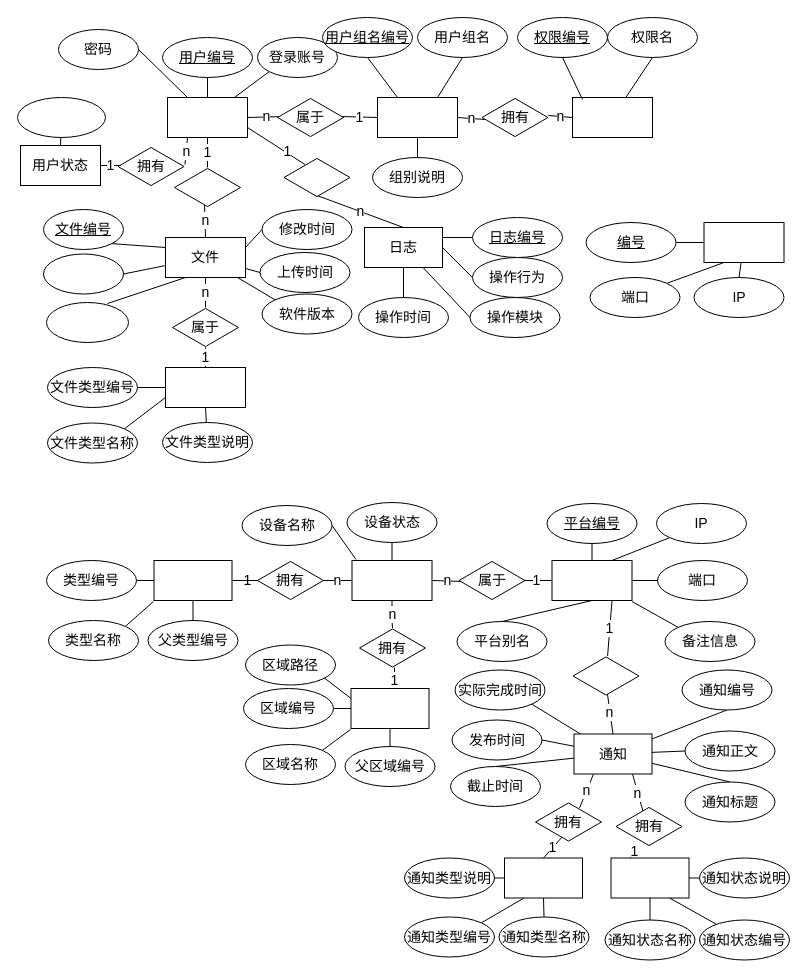
Some shapes in this 807 by 978 pixel diagram are drawn without their labels. Each missing label, with the centre of its shape:
一级平台: the point at 591,580
产生: the point at 316,177
区域: the point at 389,708
接收: the point at 605,675
操作: the point at 207,187
文件名称: the point at 83,273
文件类型: the point at 205,387
文件链接: the point at 87,322
权限: the point at 612,117
用户: the point at 207,117
用户状态名称: the point at 61,117
用户组: the point at 417,117
白名单: the point at 743,242
设备: the point at 391,580
设备类型: the point at 192,580
通知状态: the point at 649,877
通知类型: the point at 543,877
